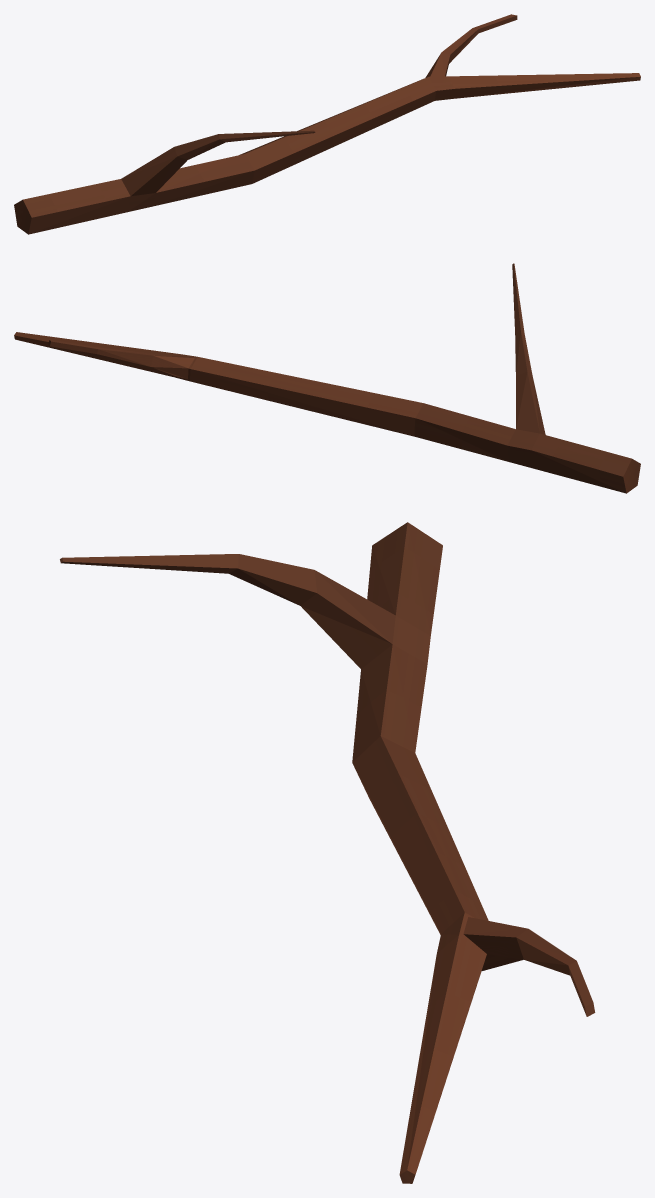
Rendered from galho.glb.
The picture shows the model from 3 angles, top to bottom: view 1: azimuth 30°, elevation 25°; view 2: azimuth 150°, elevation 25°; view 3: azimuth 270°, elevation 25°; orthographic projection. The views are drawn at different scales.
Parts seen in each view (by area): view 1: TreeBranchBLeafless; view 2: TreeBranchBLeafless; view 3: TreeBranchBLeafless.
Boxes of the visible parts, <box> form: TreeBranchBLeafless: <box>14,14,640,234</box>; TreeBranchBLeafless: <box>14,263,640,493</box>; TreeBranchBLeafless: <box>60,522,595,1183</box>.
Size of the model in its own units: 1.91 by 0.3345 by 0.7176.
1 material, 1 textured.
